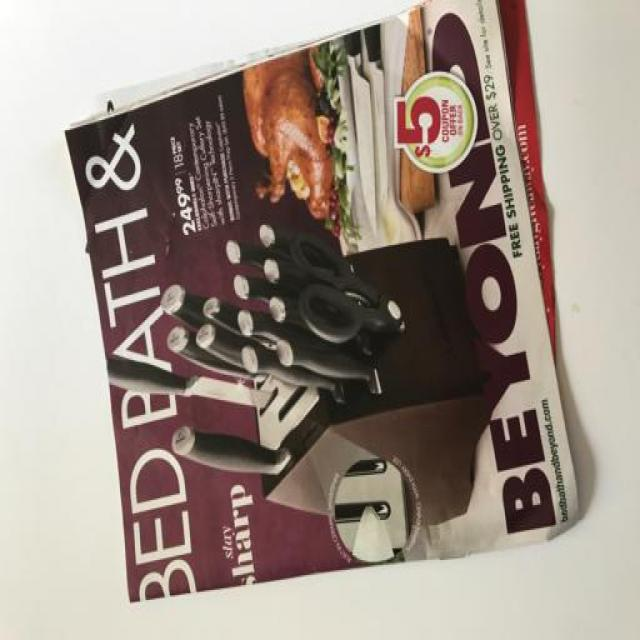paper: (55, 2, 612, 640)
